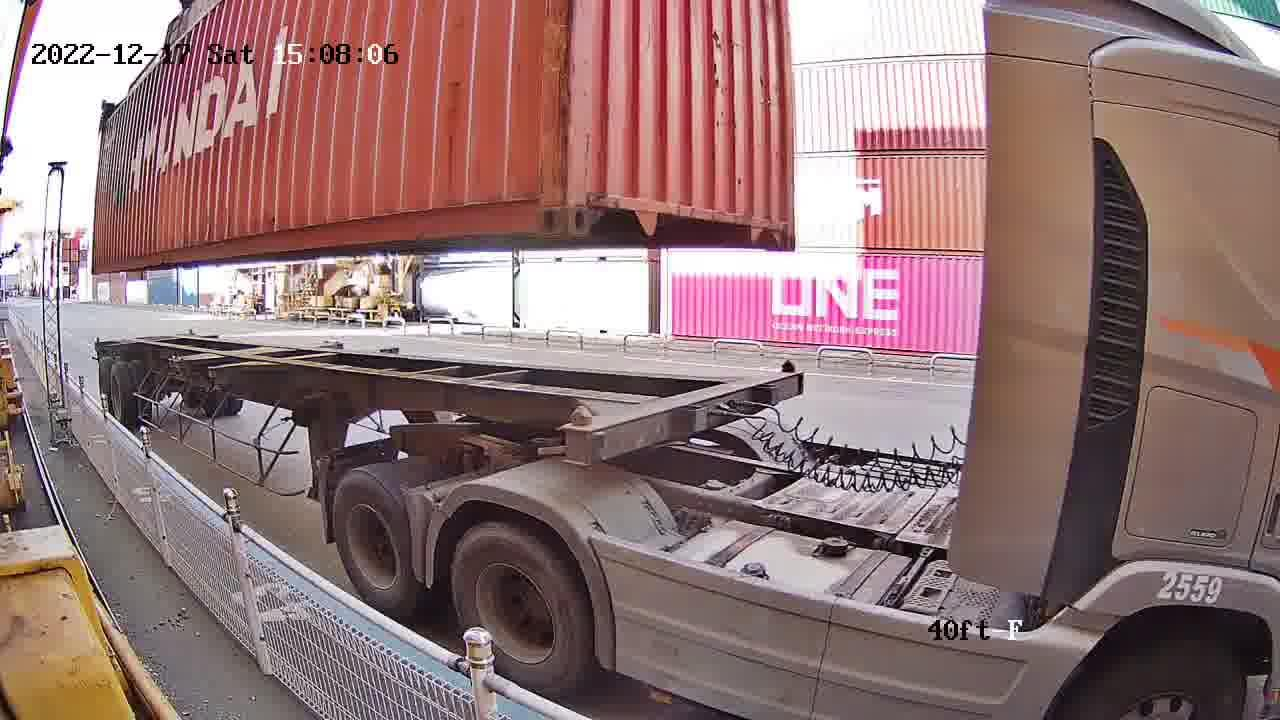Chassis: (562, 368, 802, 462)
Cone: (562, 401, 597, 465), (780, 358, 801, 397)
Hole_L: (567, 169, 624, 241)
Hole_R: (515, 171, 568, 235), (758, 205, 797, 253)
Tire: (452, 528, 586, 684), (335, 473, 417, 610)
